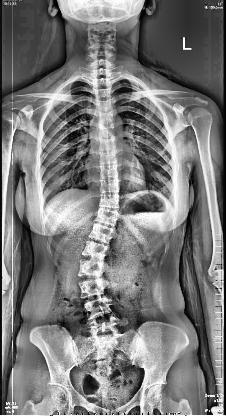Vertebrae: (89, 321, 119, 339), (79, 280, 107, 298), (84, 300, 112, 318), (78, 260, 104, 278), (82, 243, 108, 259), (90, 226, 113, 240), (96, 210, 118, 224), (99, 194, 119, 208), (100, 180, 120, 192), (99, 166, 118, 178), (98, 125, 116, 137), (100, 139, 116, 151), (92, 79, 112, 88), (96, 101, 114, 111), (99, 112, 115, 122), (100, 154, 116, 164), (94, 90, 112, 98)
